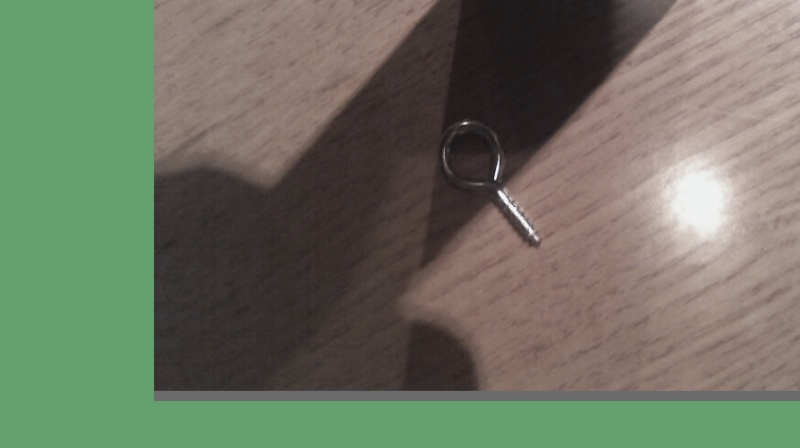O001: (436, 116, 543, 249)
